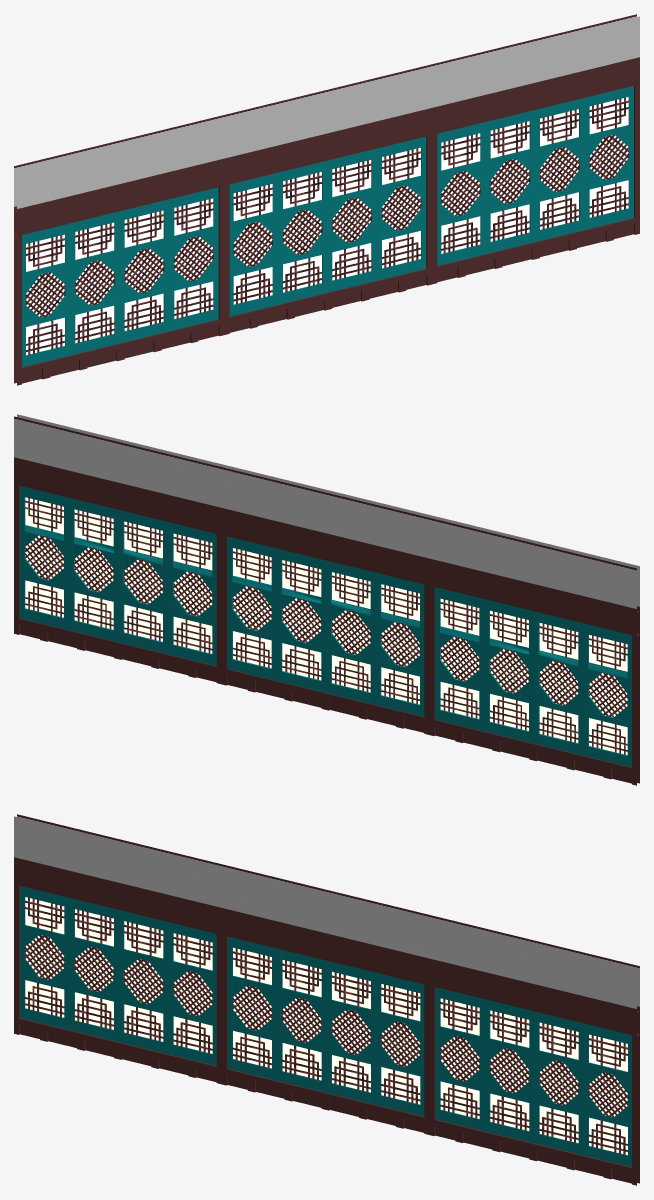
Rendered from living_room_wall_004.fbx.
The picture shows the model from 3 angles, top to bottom: view 1: azimuth 30°, elevation 25°; view 2: azimuth 150°, elevation 25°; view 3: azimuth 330°, elevation 25°; orthographic projection.
Visible parts, largest first — view 1: living_room_wall_004; view 2: living_room_wall_004; view 3: living_room_wall_004.
Part boxes in pixels (x1,y1,x2,y2): living_room_wall_004: (14,14,639,385); living_room_wall_004: (14,414,639,785); living_room_wall_004: (14,814,639,1185).
Size of the model in its own units: 1200 by 400 by 10.
